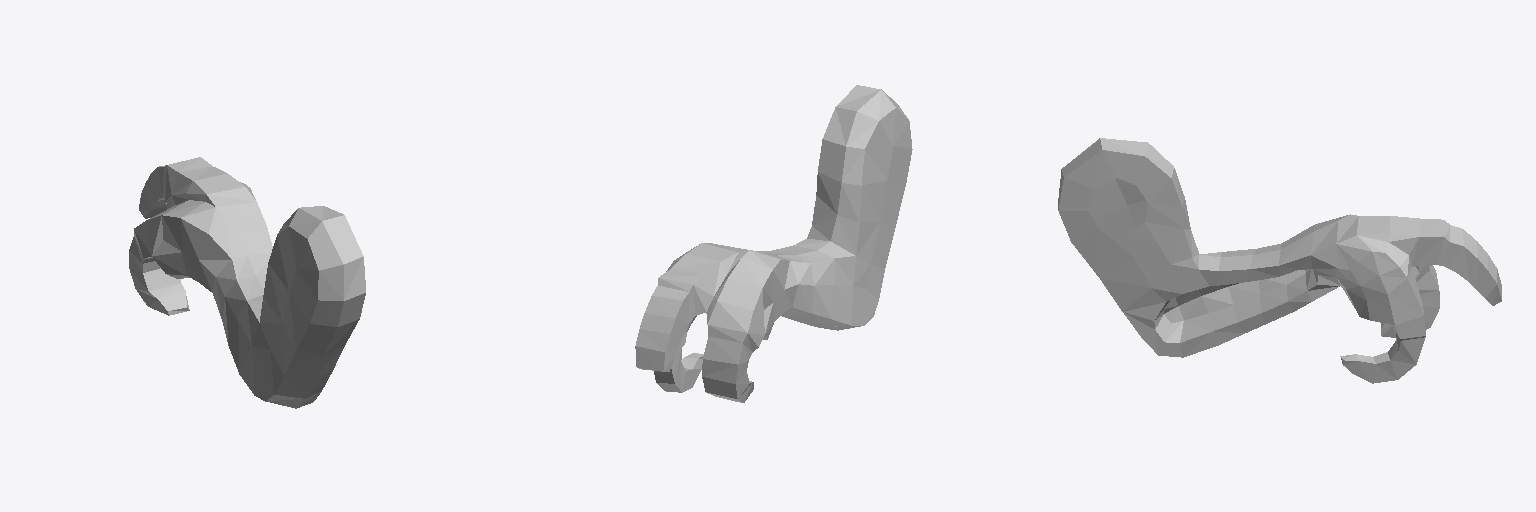
File: BrazoIzquierdo.obj
3 renders of one model, left to right at view 1: azimuth 30°, elevation 25°; view 2: azimuth 150°, elevation 25°; view 3: azimuth 270°, elevation 25°, orthographic.
Visible parts, largest first — view 1: polySurface11 polySurface10 polySurface8 polySurface4 Bary_Mesh; view 2: polySurface11 polySurface10 polySurface8 polySurface4 Bary_Mesh; view 3: polySurface11 polySurface10 polySurface8 polySurface4 Bary_Mesh.
Part boxes in pixels (x1,y1,x2,y2): polySurface11 polySurface10 polySurface8 polySurface4 Bary_Mesh: (129,157,365,408); polySurface11 polySurface10 polySurface8 polySurface4 Bary_Mesh: (635,85,912,402); polySurface11 polySurface10 polySurface8 polySurface4 Bary_Mesh: (1058,138,1501,383).
Bounding box in the file's own units: 0.6408 × 1.27 × 2.4.